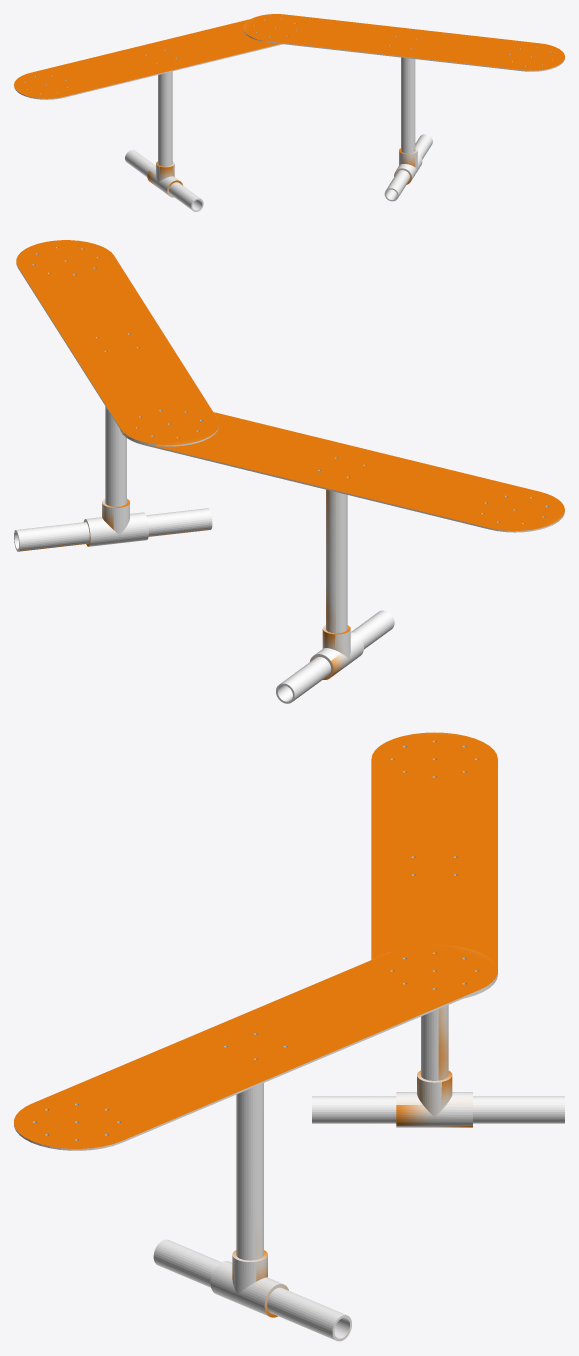
File: PathMarkers2018.dae
3 views of the same model, one above another, from view 1: azimuth 30°, elevation 25°; view 2: azimuth 150°, elevation 25°; view 3: azimuth 270°, elevation 25° (orthographic). The views are drawn at different scales.
Visible parts, largest first — view 1: path_assembly; view 2: path_assembly; view 3: path_assembly.
Part boxes in pixels (bbox=[...]): path_assembly: bbox=[14, 14, 564, 211]; path_assembly: bbox=[14, 240, 564, 703]; path_assembly: bbox=[14, 732, 564, 1341].
Bounding box in the file's own units: 3.29 × 1.83 × 0.9464.
Materials: 1 (1 with a texture image).
